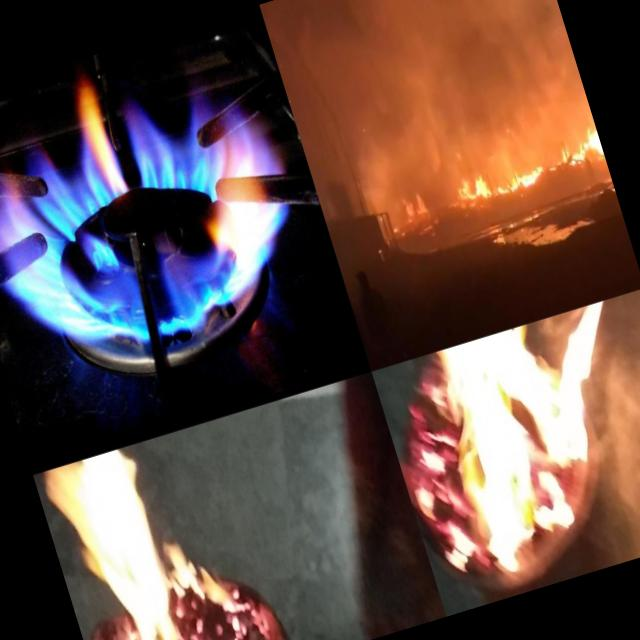fire: (0, 27, 332, 404), (373, 298, 640, 602), (37, 419, 286, 640), (448, 120, 608, 212), (392, 176, 431, 223)
smoke: (307, 0, 593, 192)
